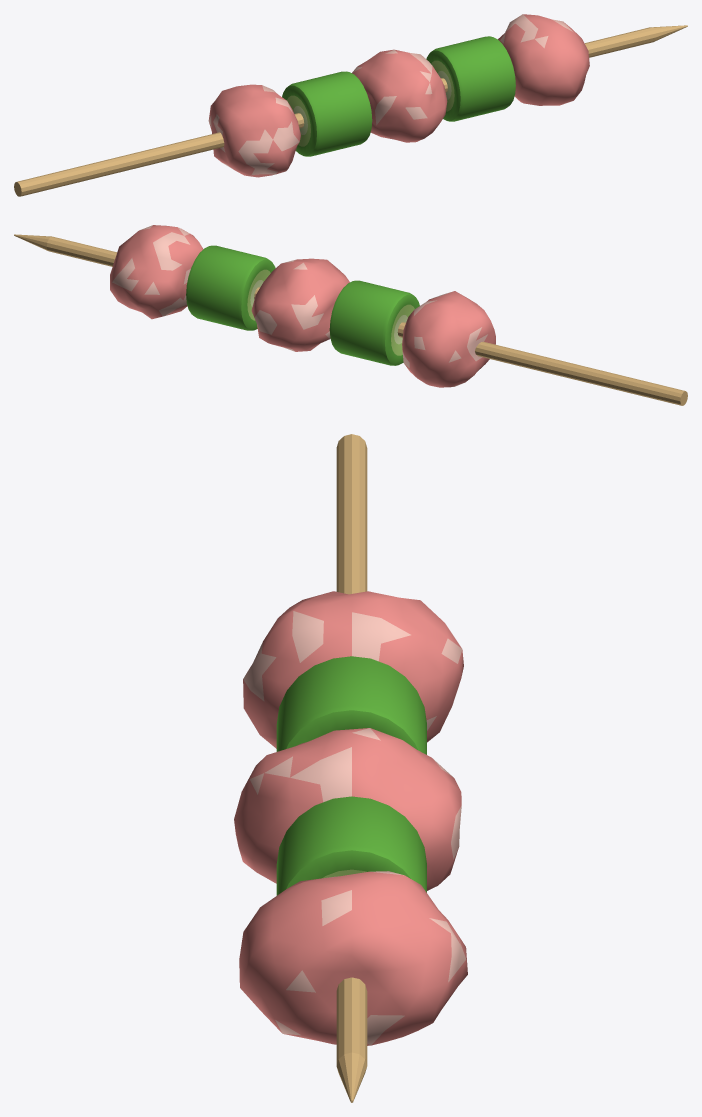
Rendered from Yakitori_Skewer_Raw.fbx.
3 views of the same model, one above another, from view 1: azimuth 30°, elevation 25°; view 2: azimuth 150°, elevation 25°; view 3: azimuth 270°, elevation 25° (orthographic). The views are drawn at different scales.
Visible parts, largest first — view 1: Yakitori_Skewer_Raw; view 2: Yakitori_Skewer_Raw; view 3: Yakitori_Skewer_Raw.
Part boxes in pixels (left/top/right/bottom): Yakitori_Skewer_Raw: left=14, top=14, right=687, bottom=196; Yakitori_Skewer_Raw: left=14, top=225, right=687, bottom=405; Yakitori_Skewer_Raw: left=234, top=434, right=467, bottom=1102.
Size of the model in its own units: 0.222 by 0.0272 by 0.0336.
